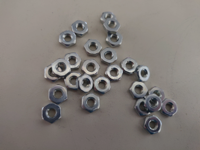nut: (42, 104, 62, 125), (82, 93, 101, 113), (144, 115, 162, 136), (161, 98, 179, 118), (49, 85, 67, 104), (130, 82, 149, 100), (94, 75, 112, 93), (84, 39, 102, 57), (59, 31, 78, 48), (77, 75, 94, 93), (82, 59, 100, 76), (64, 53, 82, 70), (101, 48, 119, 65), (106, 64, 124, 81), (147, 95, 164, 113), (52, 59, 71, 75), (65, 72, 82, 89), (45, 65, 62, 82), (122, 58, 139, 75), (149, 85, 166, 102), (72, 21, 89, 37), (106, 32, 124, 47), (104, 18, 122, 33), (135, 100, 151, 116), (136, 65, 151, 81), (100, 12, 117, 22)
